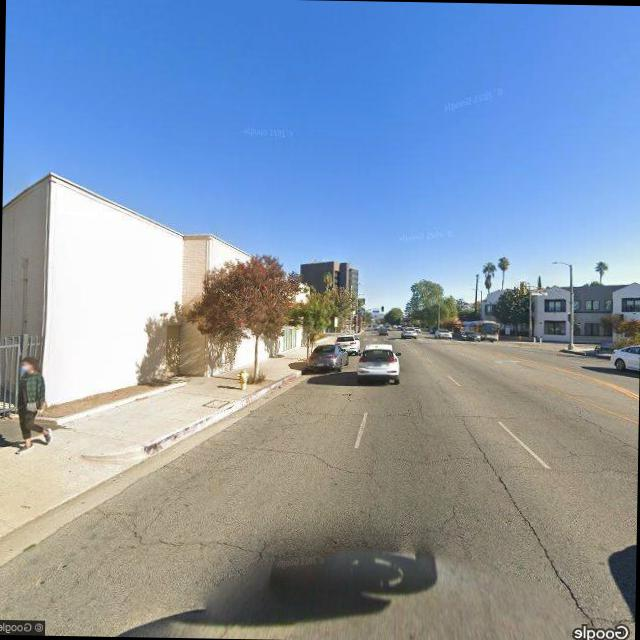crack: (464, 421, 604, 626), (249, 442, 369, 474), (152, 531, 274, 559), (572, 406, 638, 454), (506, 459, 638, 478), (388, 449, 476, 468)
